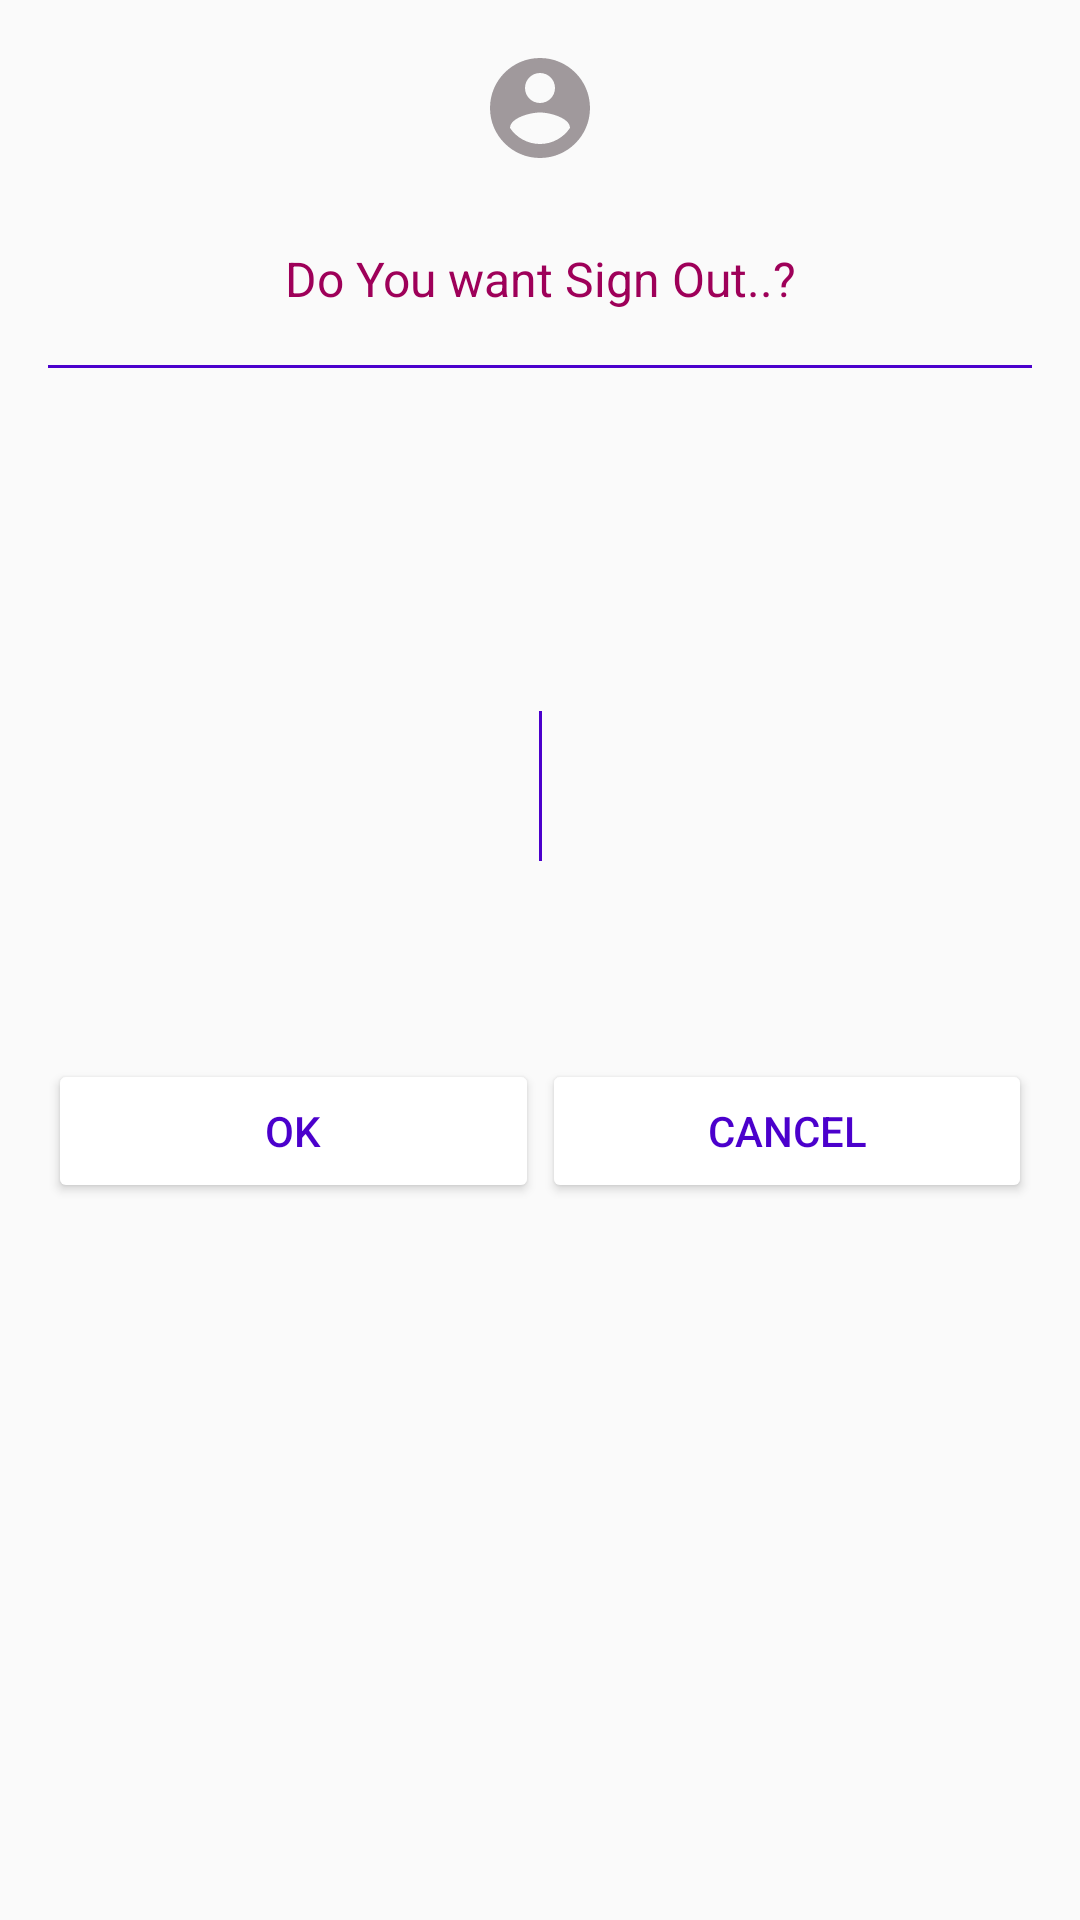

Where to tap for icons on this 1080w x 1920h app screen, as (x,y):
account circle: (540,108)
